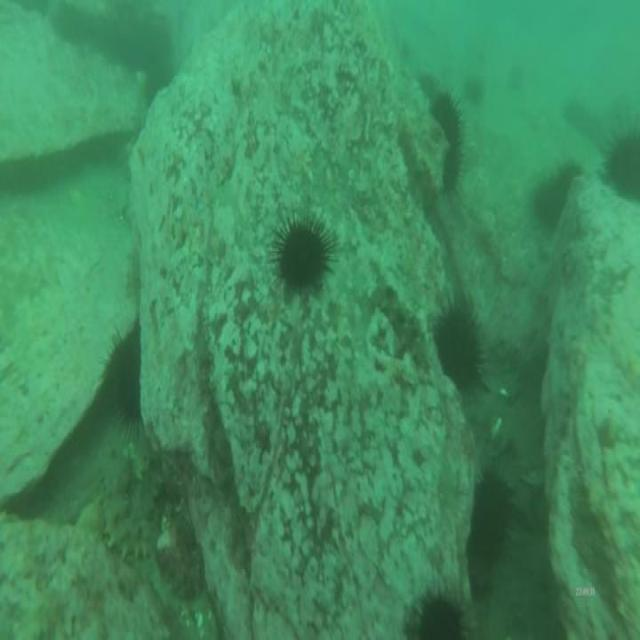echinus: (431, 295, 494, 403), (268, 208, 336, 298), (469, 463, 519, 570), (101, 326, 147, 433), (408, 583, 469, 640), (601, 123, 640, 212), (428, 87, 467, 150), (532, 171, 567, 229), (439, 137, 466, 204), (554, 154, 585, 198), (559, 89, 590, 132), (412, 64, 443, 104), (463, 70, 488, 114)
holothurian: (97, 449, 159, 566)
